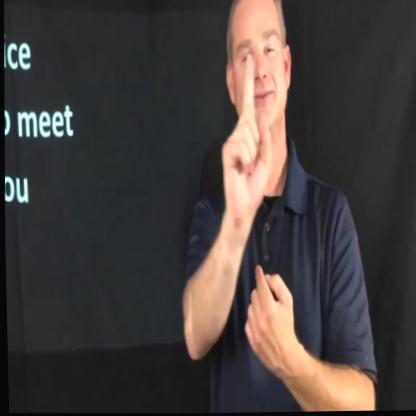NiceToMeetYou: (203, 56, 305, 375)
